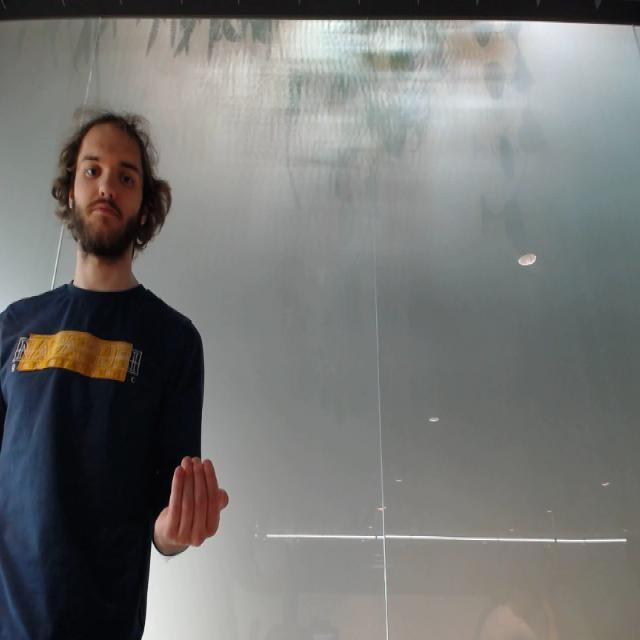forward: (159, 451, 231, 552)
